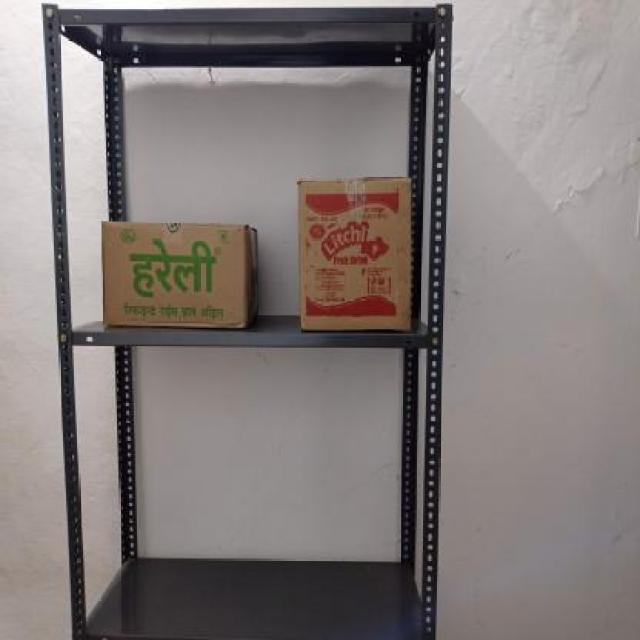box: (298, 178, 414, 332), (101, 220, 248, 332)
